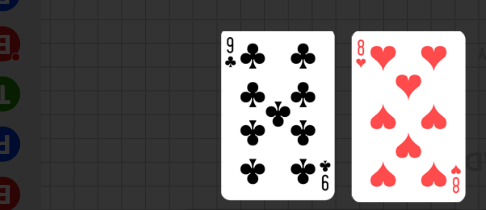9C: (224, 36, 239, 70), (319, 159, 333, 193)
